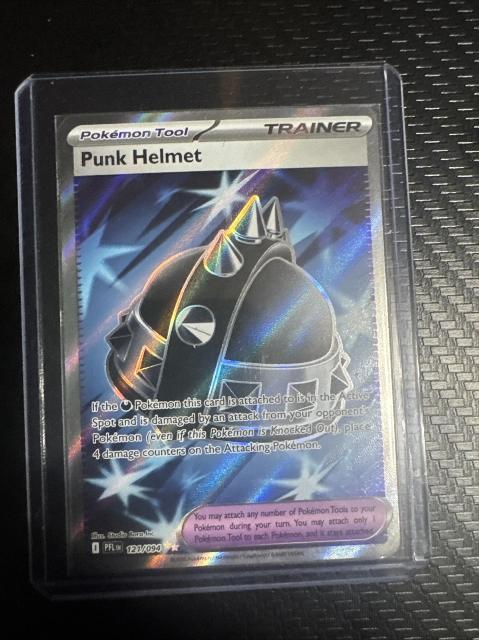Card: (54, 105, 404, 579)
Name: (74, 141, 206, 175)
